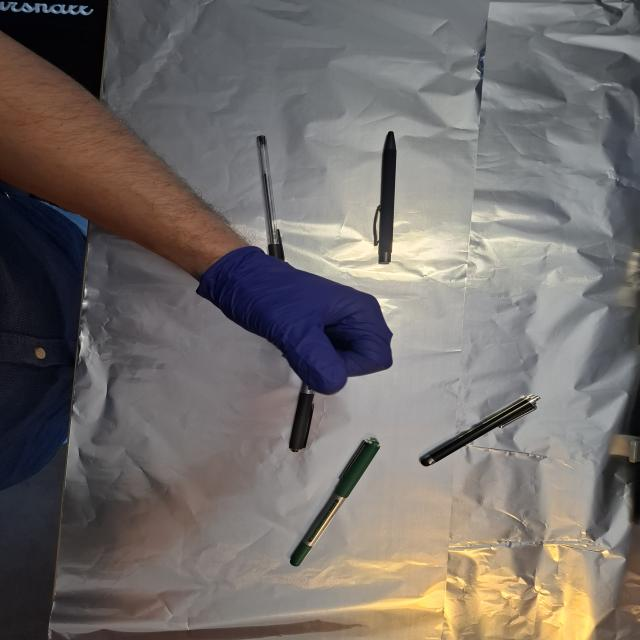glove_on: (196, 245, 397, 398)
